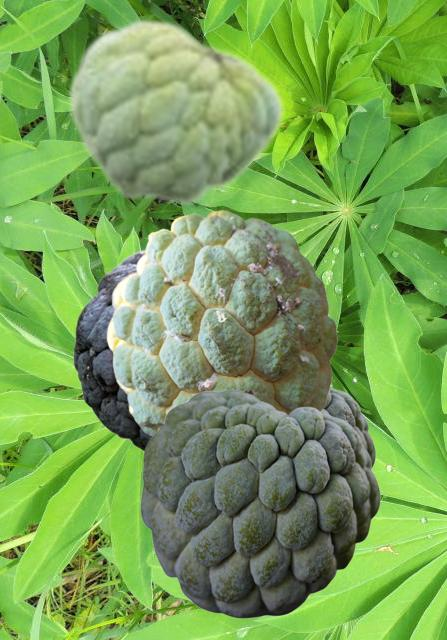atis: (140, 389, 379, 617), (106, 210, 336, 436), (66, 16, 283, 207), (73, 247, 149, 452), (322, 388, 374, 467)
